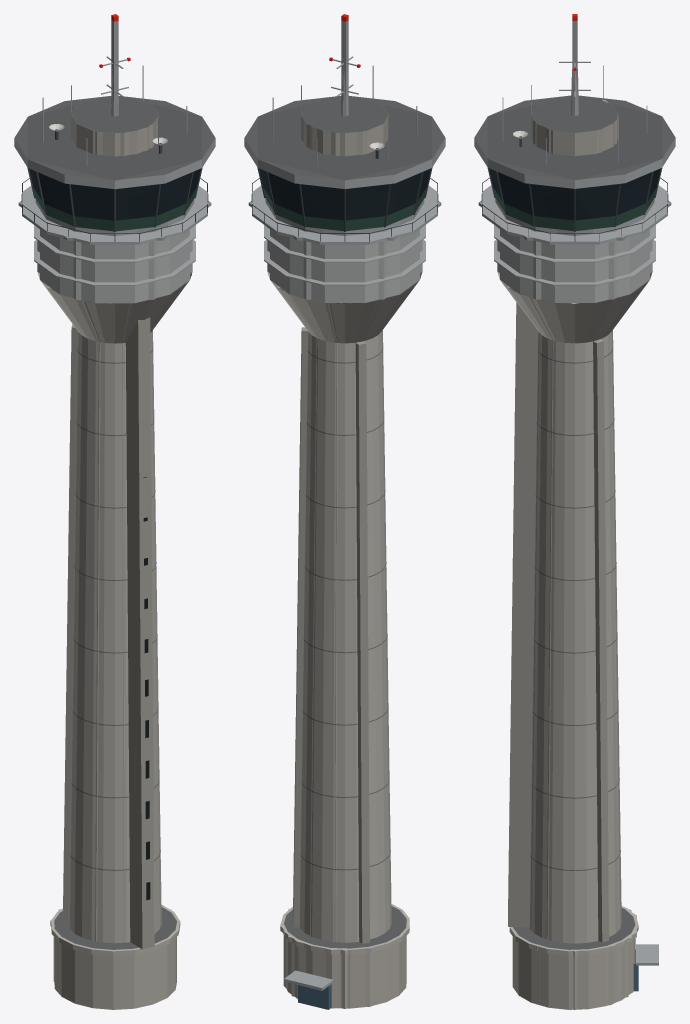
Rendered from atl-control-tower.glb.
3 views of the same model, side by side, from view 1: azimuth 30°, elevation 25°; view 2: azimuth 150°, elevation 25°; view 3: azimuth 270°, elevation 25° (orthographic).
Visible parts, largest first — view 1: lod0_lm_stone, lod1_lm_stone, lod0_bld_wall, lod0_lm_metal, lod2_lm_stone, lod0_lm_glass, lod0_bld_roof, lod0_lm_glow, lod0_lm_dark, lod2_bld_wall, lod1_bld_wall; view 2: lod0_lm_stone, lod1_lm_stone, lod0_bld_wall, lod0_lm_metal, lod2_lm_stone, lod0_lm_glass, lod0_bld_roof, lod1_bld_wall, lod0_lm_glow, lod2_bld_wall, lod0_lm_dark, lod0_bld_glass; view 3: lod0_lm_stone, lod0_bld_wall, lod1_lm_stone, lod0_lm_metal, lod2_lm_stone, lod0_lm_glass, lod0_bld_roof, lod0_lm_glow, lod1_bld_wall, lod2_bld_wall, lod0_lm_dark.
Part boxes in pixels (bbox=[...]): lod0_lm_stone: bbox=[37, 272, 192, 955]; lod1_lm_stone: bbox=[31, 72, 195, 949]; lod0_bld_wall: bbox=[40, 115, 189, 1009]; lod0_lm_metal: bbox=[14, 56, 215, 285]; lod2_lm_stone: bbox=[18, 20, 211, 941]; lod0_lm_glass: bbox=[29, 168, 200, 220]; lod0_bld_roof: bbox=[14, 96, 215, 949]; lod0_lm_glow: bbox=[33, 14, 196, 231]; lod0_lm_dark: bbox=[69, 347, 160, 900]; lod2_bld_wall: bbox=[37, 227, 192, 299]; lod1_bld_wall: bbox=[53, 113, 158, 981]; lod0_lm_stone: bbox=[267, 271, 422, 954]; lod1_lm_stone: bbox=[264, 71, 421, 954]; lod0_bld_wall: bbox=[270, 115, 419, 1008]; lod0_lm_metal: bbox=[244, 56, 445, 990]; lod2_lm_stone: bbox=[248, 20, 441, 955]; lod0_lm_glass: bbox=[259, 168, 430, 220]; lod0_bld_roof: bbox=[244, 96, 445, 948]; lod1_bld_wall: bbox=[283, 113, 388, 1008]; lod0_lm_glow: bbox=[263, 14, 427, 231]; lod2_bld_wall: bbox=[267, 227, 422, 1008]; lod0_lm_dark: bbox=[300, 347, 390, 870]; lod0_bld_glass: bbox=[298, 985, 330, 1009]; lod0_lm_stone: bbox=[497, 271, 652, 955]; lod0_bld_wall: bbox=[500, 115, 649, 1009]; lod1_lm_stone: bbox=[489, 73, 660, 955]; lod0_lm_metal: bbox=[474, 61, 675, 965]; lod2_lm_stone: bbox=[478, 21, 671, 955]; lod0_lm_glass: bbox=[490, 169, 655, 218]; lod0_bld_roof: bbox=[474, 95, 675, 949]; lod0_lm_glow: bbox=[492, 14, 657, 230]; lod1_bld_wall: bbox=[533, 120, 633, 1009]; lod2_bld_wall: bbox=[497, 227, 652, 997]; lod0_lm_dark: bbox=[530, 347, 620, 870].
Size of the model in its own units: 22.8 by 121 by 22.8.
